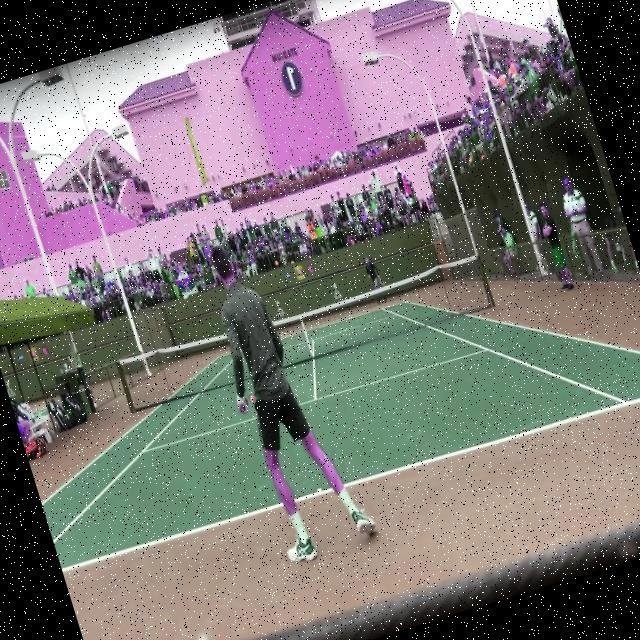court: (15, 229, 640, 580)
net: (110, 244, 500, 422)
player: (190, 224, 381, 568)
